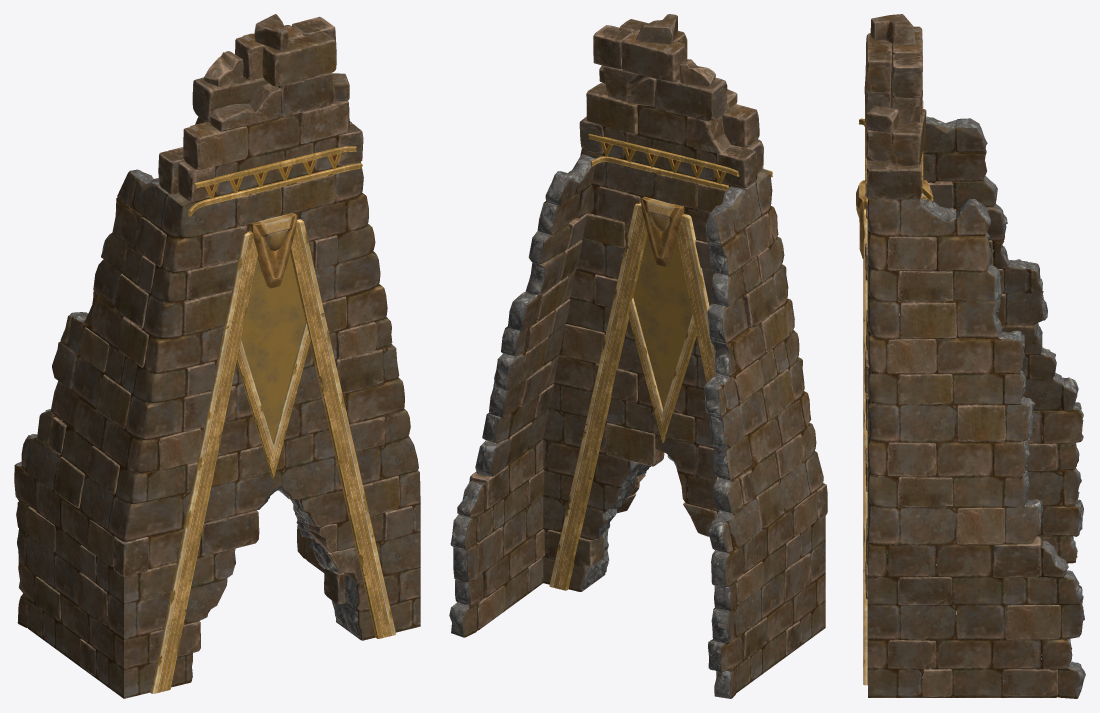
3 views of the same model, side by side, from view 1: azimuth 30°, elevation 25°; view 2: azimuth 150°, elevation 25°; view 3: azimuth 270°, elevation 25° (orthographic). The views are drawn at different scales.
Visible parts, largest first — view 1: SM_DK_Entrance_02_LOD0; view 2: SM_DK_Entrance_02_LOD0; view 3: SM_DK_Entrance_02_LOD0.
Part boxes in pixels (x1,y1,x2,y2): SM_DK_Entrance_02_LOD0: [14, 14, 420, 698]; SM_DK_Entrance_02_LOD0: [449, 14, 827, 698]; SM_DK_Entrance_02_LOD0: [856, 14, 1085, 698].
Size of the model in its own units: 13.04 by 25.82 by 8.76.
8 materials, 8 textured.
